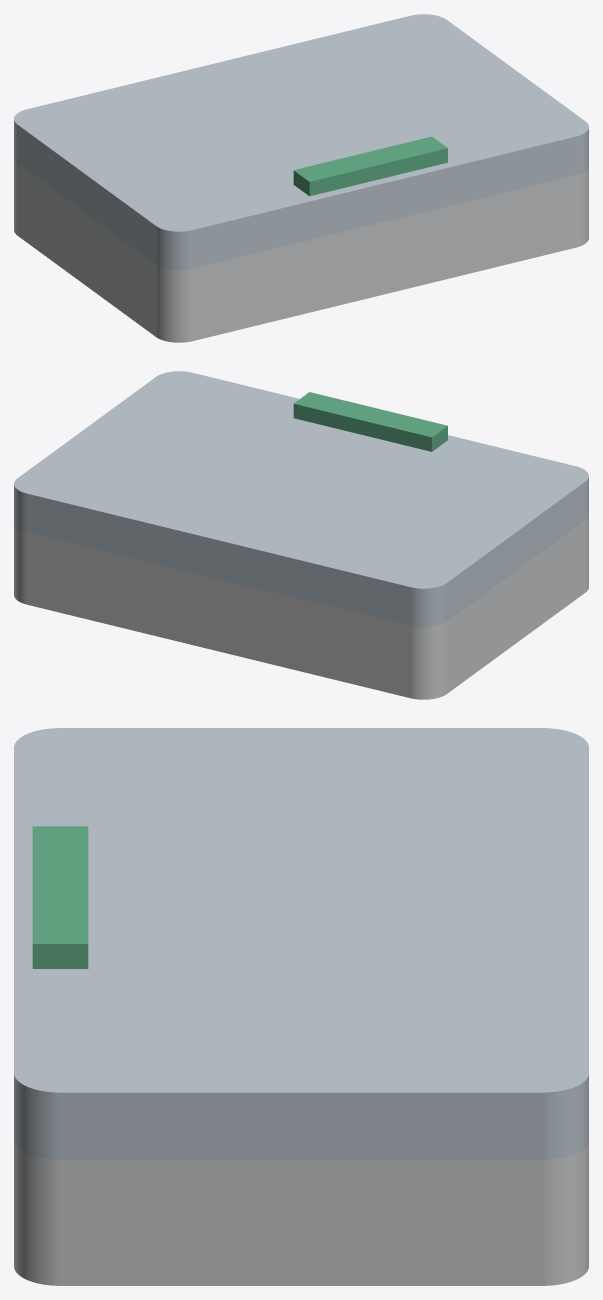
The model's file is step_04.glb.
3 renders of one model, top to bottom at view 1: azimuth 30°, elevation 25°; view 2: azimuth 150°, elevation 25°; view 3: azimuth 270°, elevation 25°, orthographic. The views are drawn at different scales.
Parts seen in each view (by area): view 1: part__clear lid, part__case, part__display and PRESS HERE button; view 2: part__clear lid, part__case, part__display and PRESS HERE button; view 3: part__clear lid, part__case, part__display and PRESS HERE button.
Part boxes in pixels (x1,y1,x2,y2): part__clear lid: (14,14,588,270); part__case: (14,159,588,342); part__display and PRESS HERE button: (293,136,447,196); part__clear lid: (14,371,588,627); part__case: (14,516,588,699); part__display and PRESS HERE button: (293,392,447,451); part__clear lid: (14,728,588,1159); part__case: (14,1142,588,1285); part__display and PRESS HERE button: (32,826,88,968).
Size of the model in its own units: 186 by 52 by 124.
